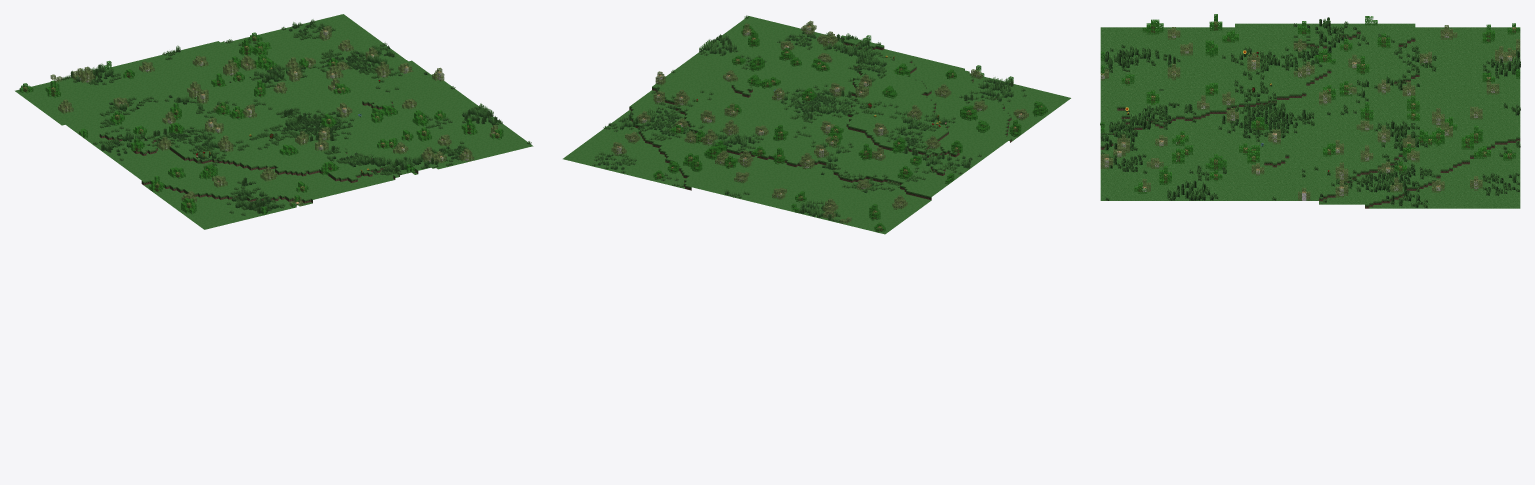
The model's file is chunk3400-1900-lvl-1-transformed.glb.
The picture shows the model from 3 angles, left to right: view 1: azimuth 30°, elevation 25°; view 2: azimuth 150°, elevation 25°; view 3: azimuth 270°, elevation 25°; orthographic projection. The views are drawn at different scales.
Visible parts, largest first — view 1: Grass_Block, Birch_Leaves, Oak_Leaves, Grass, Double_Tallgrass, Fern, Large_Fern, Oak_Log, Birch_Log; view 2: Grass_Block, Birch_Leaves, Grass, Oak_Leaves, Double_Tallgrass, Fern, Large_Fern, Oak_Log, Birch_Log; view 3: Grass_Block, Birch_Leaves, Oak_Leaves, Grass, Double_Tallgrass, Fern, Large_Fern, Birch_Log, Oak_Log.
Part boxes in pixels (box(x1,y1,x2,y2)): Grass_Block: box(15, 14, 533, 229); Birch_Leaves: box(50, 25, 497, 206); Oak_Leaves: box(19, 32, 503, 215); Grass: box(62, 19, 531, 215); Double_Tallgrass: box(75, 22, 496, 212); Fern: box(95, 21, 500, 207); Large_Fern: box(70, 52, 497, 213); Oak_Log: box(23, 36, 499, 210); Birch_Log: box(65, 30, 494, 206); Grass_Block: box(563, 16, 1070, 234); Birch_Leaves: box(611, 20, 1028, 224); Grass: box(592, 15, 1026, 222); Oak_Leaves: box(653, 25, 1047, 232); Double_Tallgrass: box(613, 33, 1013, 217); Fern: box(597, 31, 993, 215); Large_Fern: box(628, 34, 1013, 220); Oak_Log: box(656, 29, 1042, 231); Birch_Log: box(616, 25, 1022, 215); Grass_Block: box(1100, 23, 1520, 208); Birch_Leaves: box(1100, 25, 1520, 200); Oak_Leaves: box(1100, 14, 1520, 193); Grass: box(1100, 21, 1520, 208); Double_Tallgrass: box(1104, 19, 1520, 203); Fern: box(1101, 25, 1517, 207); Large_Fern: box(1105, 17, 1519, 202); Birch_Log: box(1100, 33, 1511, 200); Oak_Log: box(1125, 21, 1515, 191).
Bounding box in the file's own units: 100 × 76 × 100.
38 materials, 38 textured.
